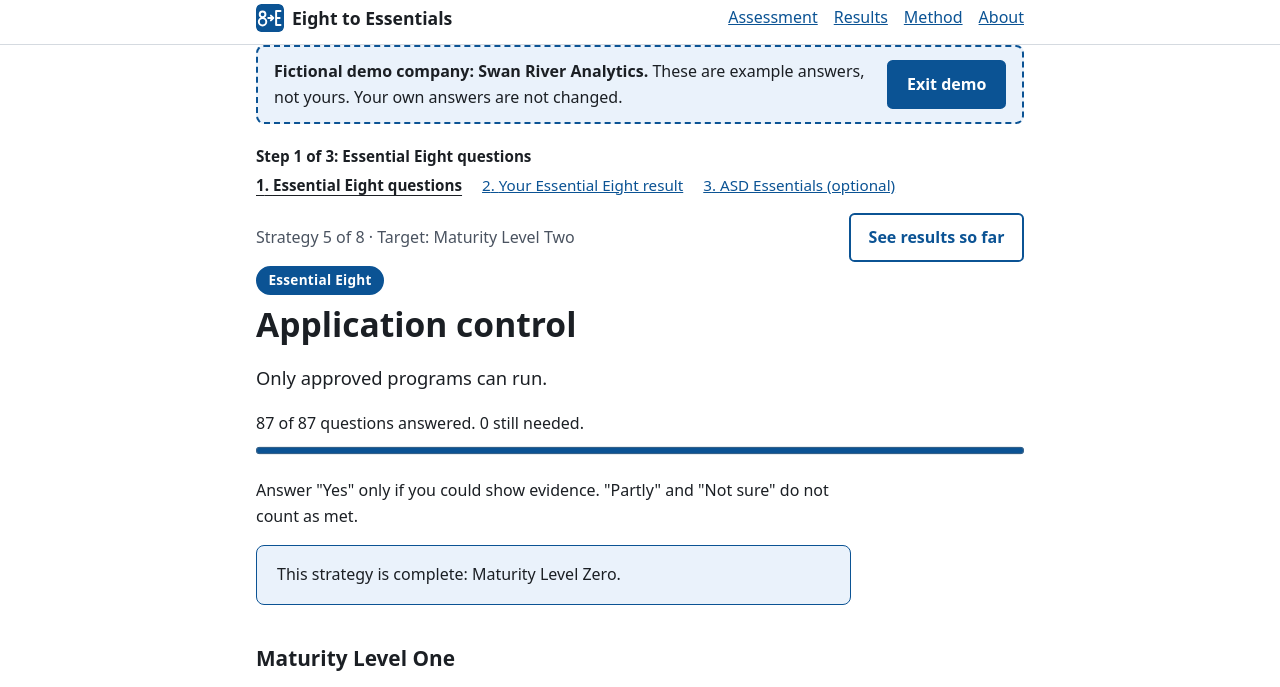
Scenario: the demo never touches the user's own answers › returns to the user's own answers on Exit demo
Click the link "Exit demo" at (947, 85), box [887,60,1006,109]
(page scrolled)
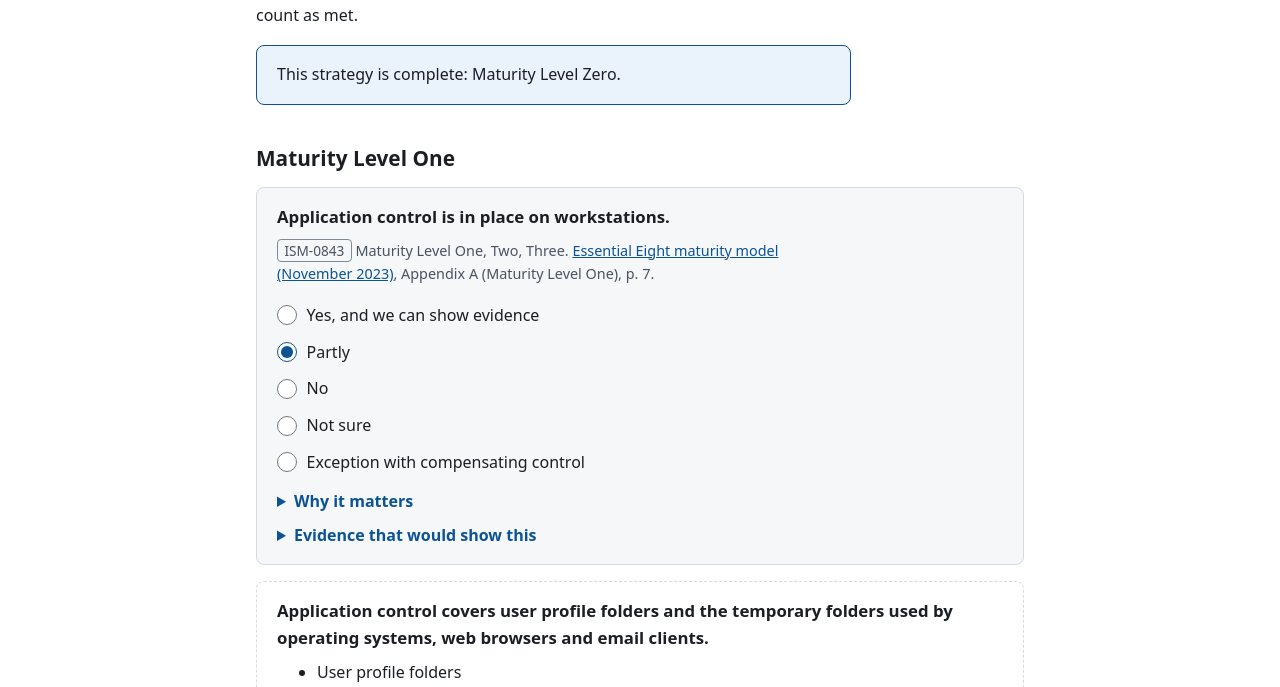
expect the text "Fictional demo company" is gone: met
expect the radio button labelled "Partly" is checked: met, box [277,342,297,362]
expect the radio button labelled "Partly" is enabled: met, box [277,342,297,362]
